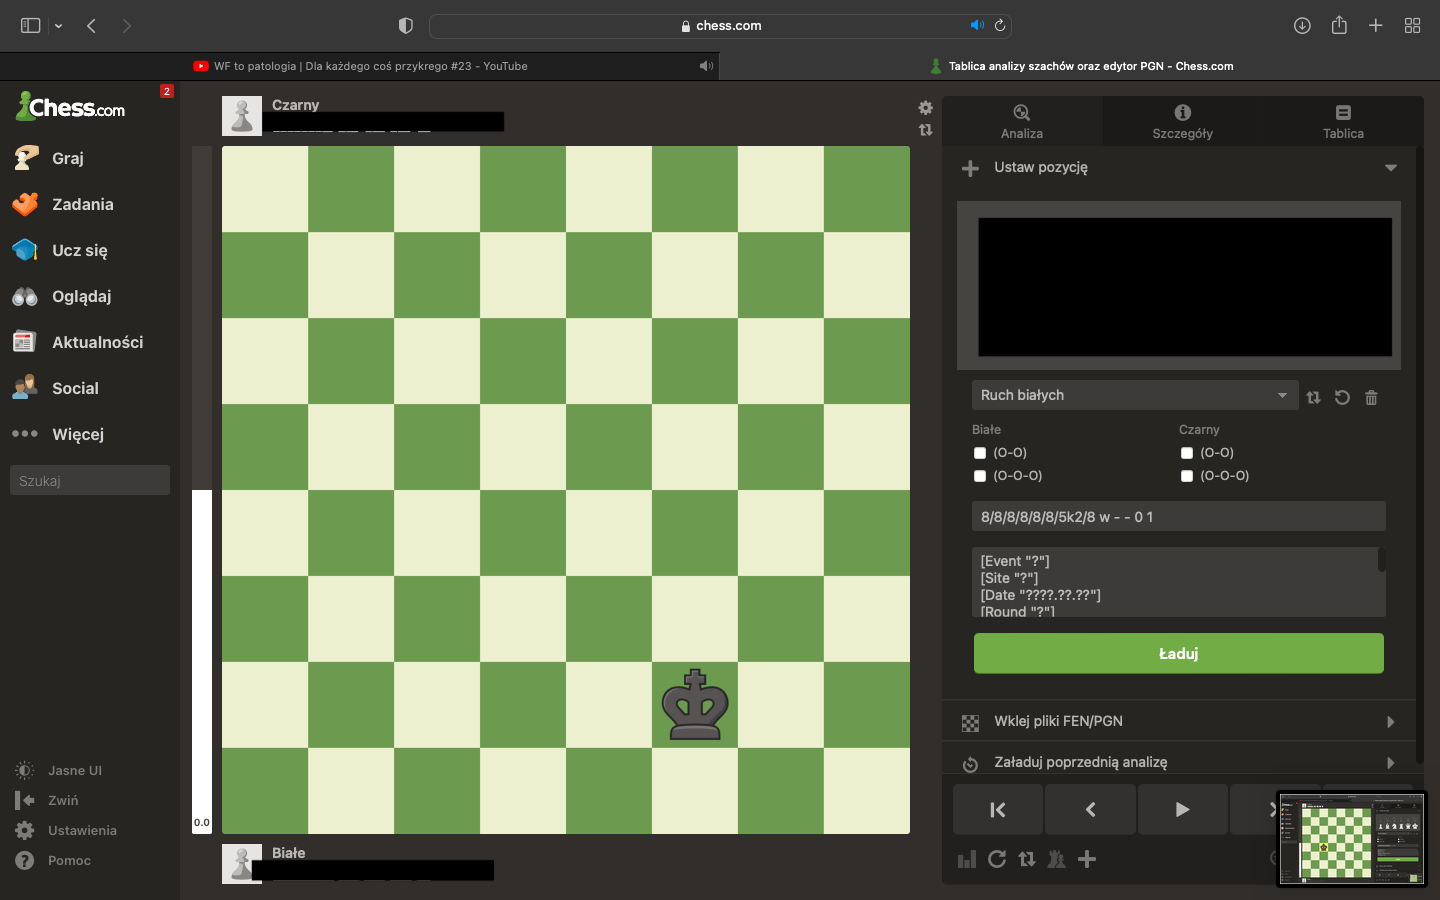black_king: (661, 667, 730, 742)
